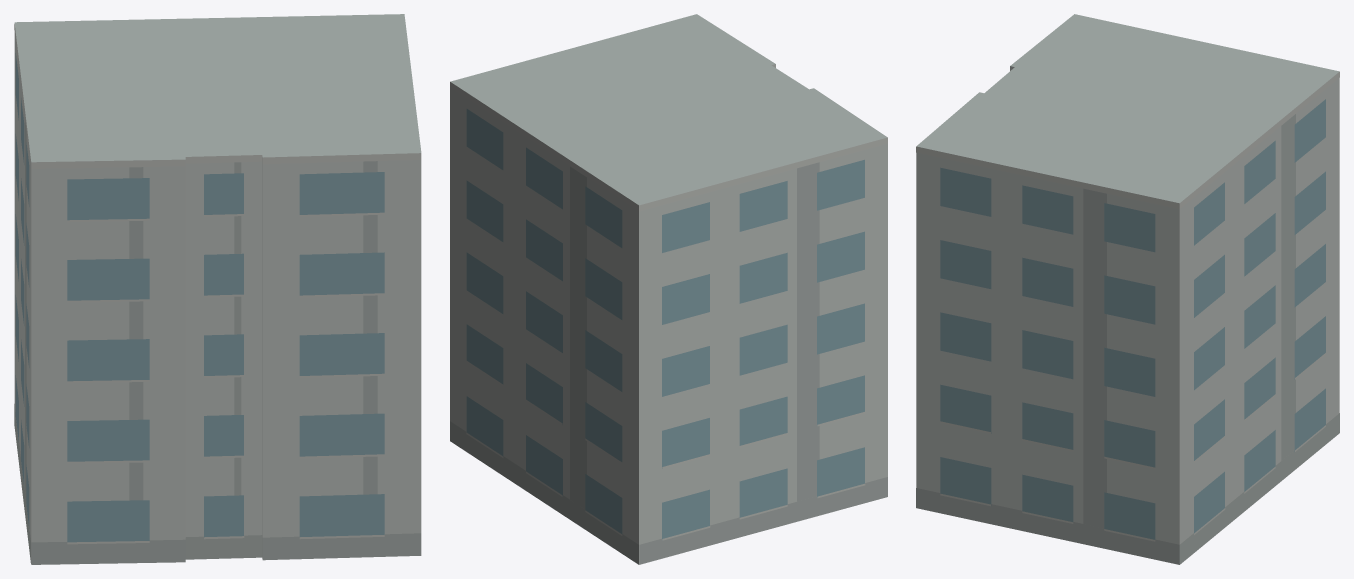
File: survey-upis-32884950.glb
The picture shows the model from 3 angles, left to right: view 1: azimuth 30°, elevation 25°; view 2: azimuth 150°, elevation 25°; view 3: azimuth 270°, elevation 25°; orthographic projection. The views are drawn at different scales.
Parts seen in each view (by area): view 1: survey-upis-32884950.tmp; view 2: survey-upis-32884950.tmp; view 3: survey-upis-32884950.tmp.
Boxes of the visible parts, <box> form: survey-upis-32884950.tmp: <box>14,14,421,564</box>; survey-upis-32884950.tmp: <box>450,14,887,564</box>; survey-upis-32884950.tmp: <box>916,14,1339,564</box>.
Bounding box in the file's own units: 16.11 × 14.35 × 15.25.
